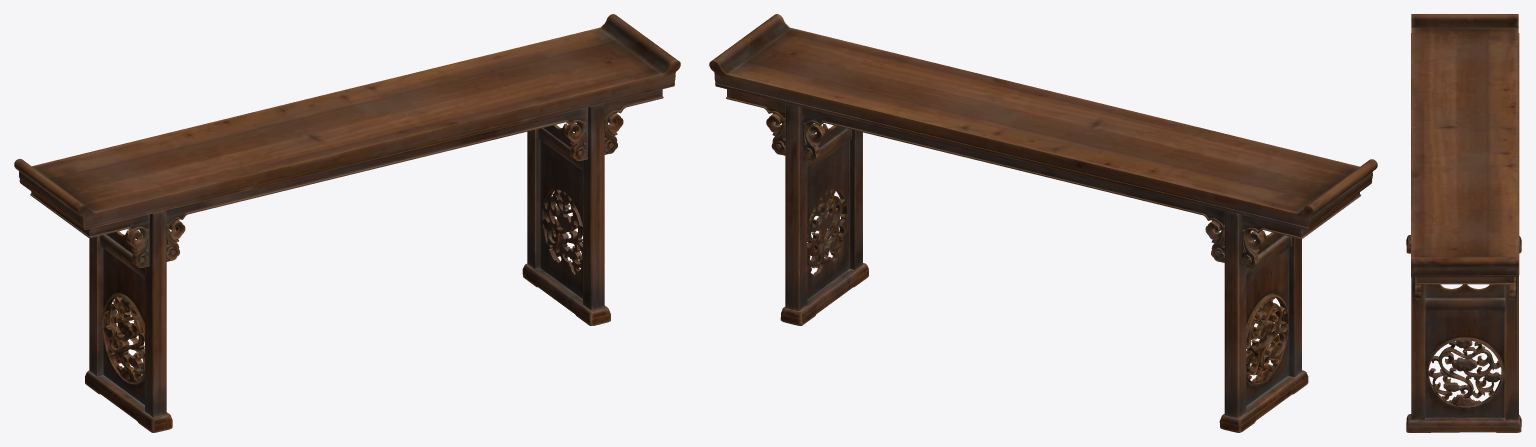
Rendered from chinese_console_table.glb.
3 renders of one model, left to right at view 1: azimuth 30°, elevation 25°; view 2: azimuth 150°, elevation 25°; view 3: azimuth 270°, elevation 25°, orthographic. The views are drawn at different scales.
Visible parts, largest first — view 1: chinese_console_table; view 2: chinese_console_table; view 3: chinese_console_table.
Boxes of the visible parts, box(x1,y1,x2,y2) form: chinese_console_table: box(14, 14, 680, 432); chinese_console_table: box(709, 14, 1377, 432); chinese_console_table: box(1406, 14, 1521, 432).
Size of the model in its own units: 1.72 by 0.6607 by 0.3388.
Materials: 1 (1 with a texture image).
